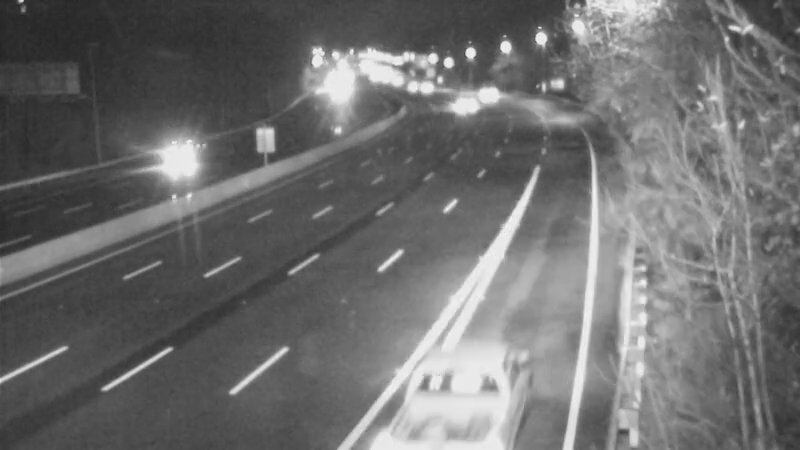vehicle: (384, 354, 494, 450), (131, 122, 211, 202), (457, 62, 507, 112), (436, 79, 486, 129)
